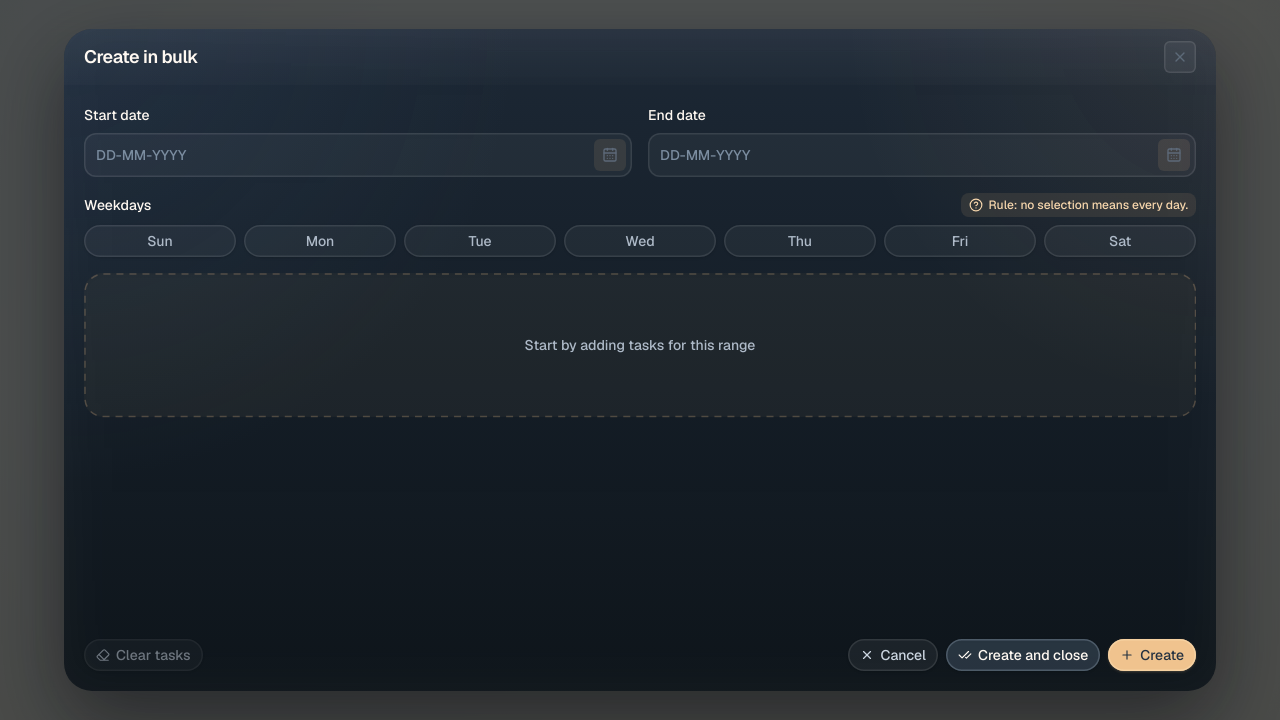
Test: BulkCalendarEditor › clears only the drafted tasks
Click the button "Start by adding tasks for this range".
click(640, 345)  # box [84,273,1196,417]
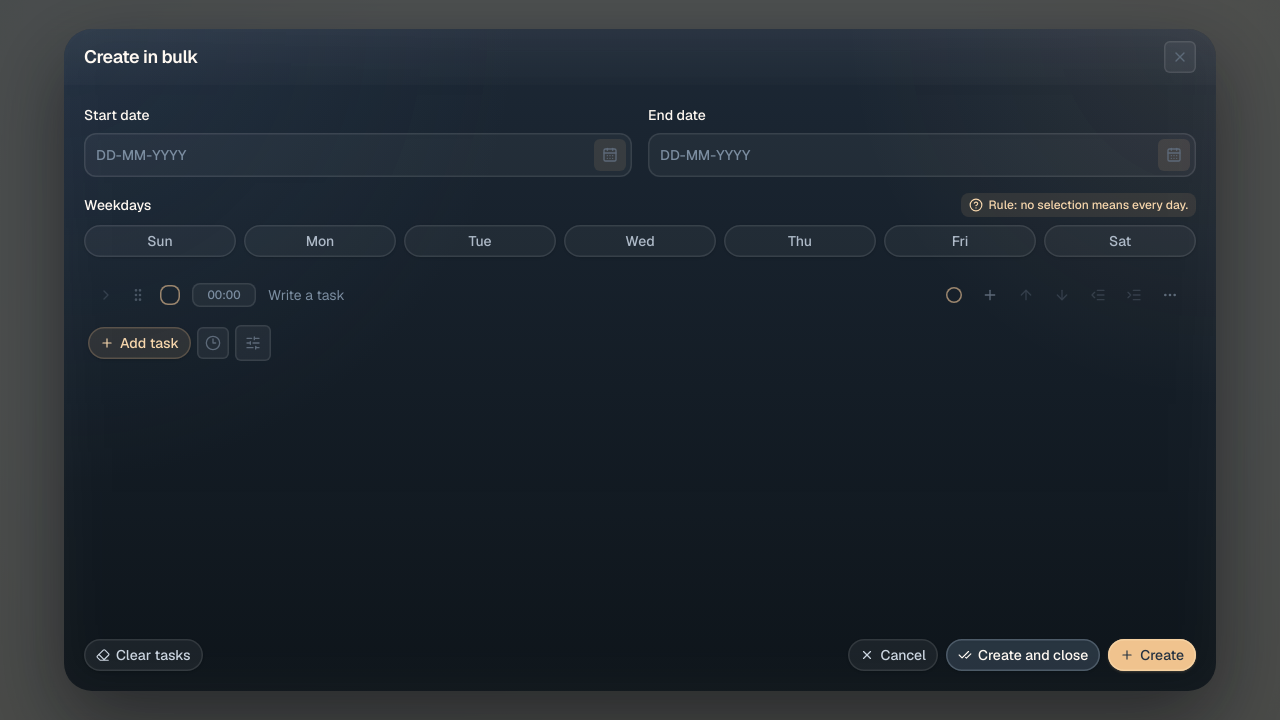
Type "Temporary task" into the text box with placeholder "Write a task".
click(596, 295); type("Temporary task")  # box [260,285,932,305]
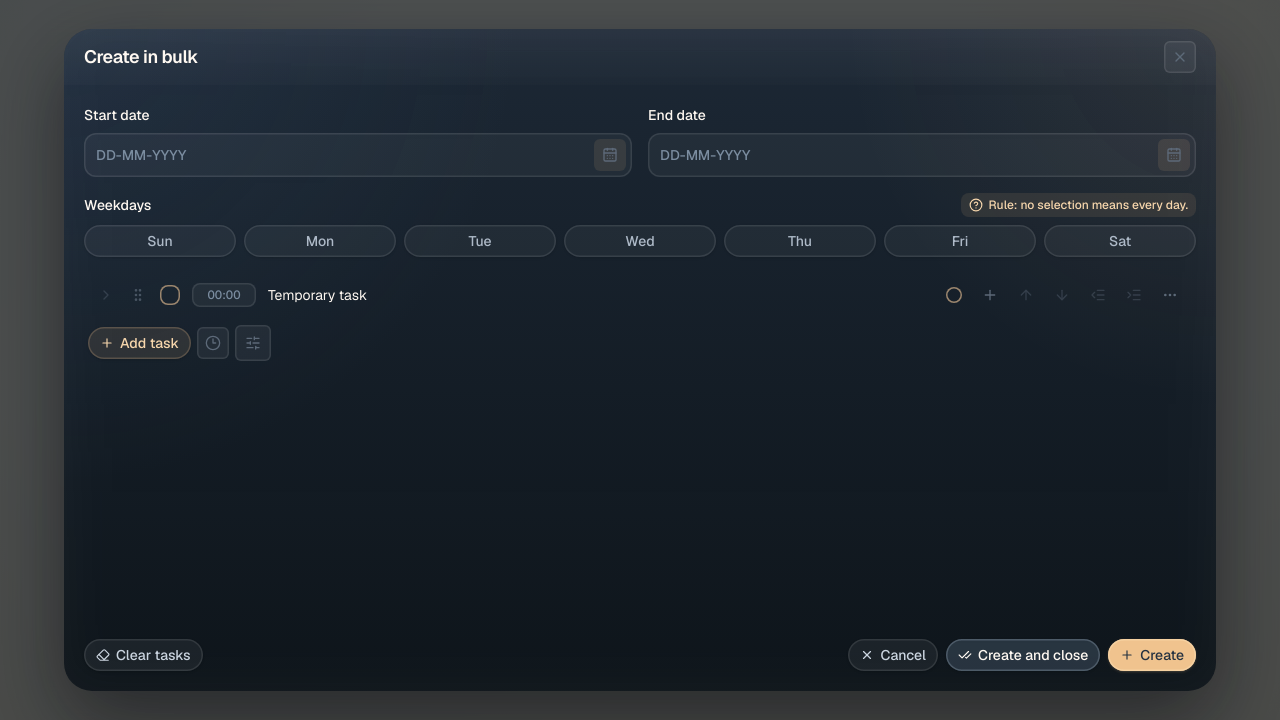
Type "01012026" into the field named "Start date".
click(358, 155); type("01012026")  # box [84,133,632,177]
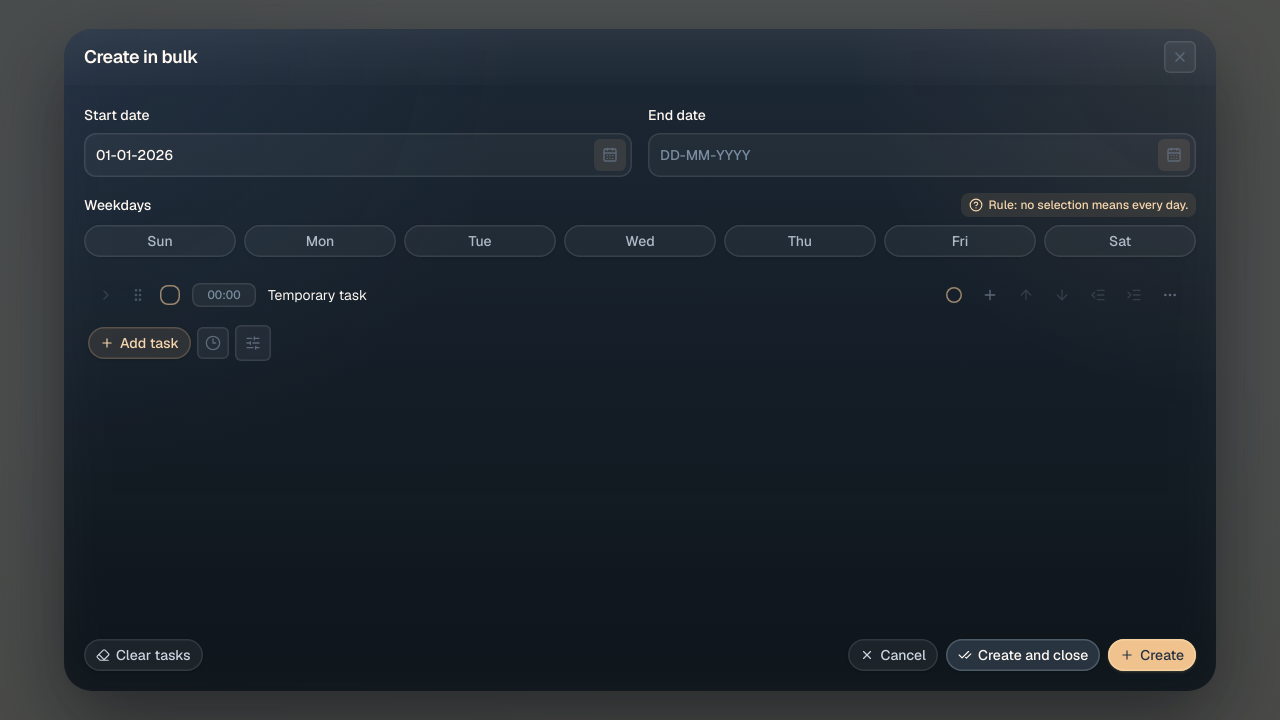
Type "10012026" into the field named "End date".
click(922, 155); type("10012026")  # box [648,133,1196,177]
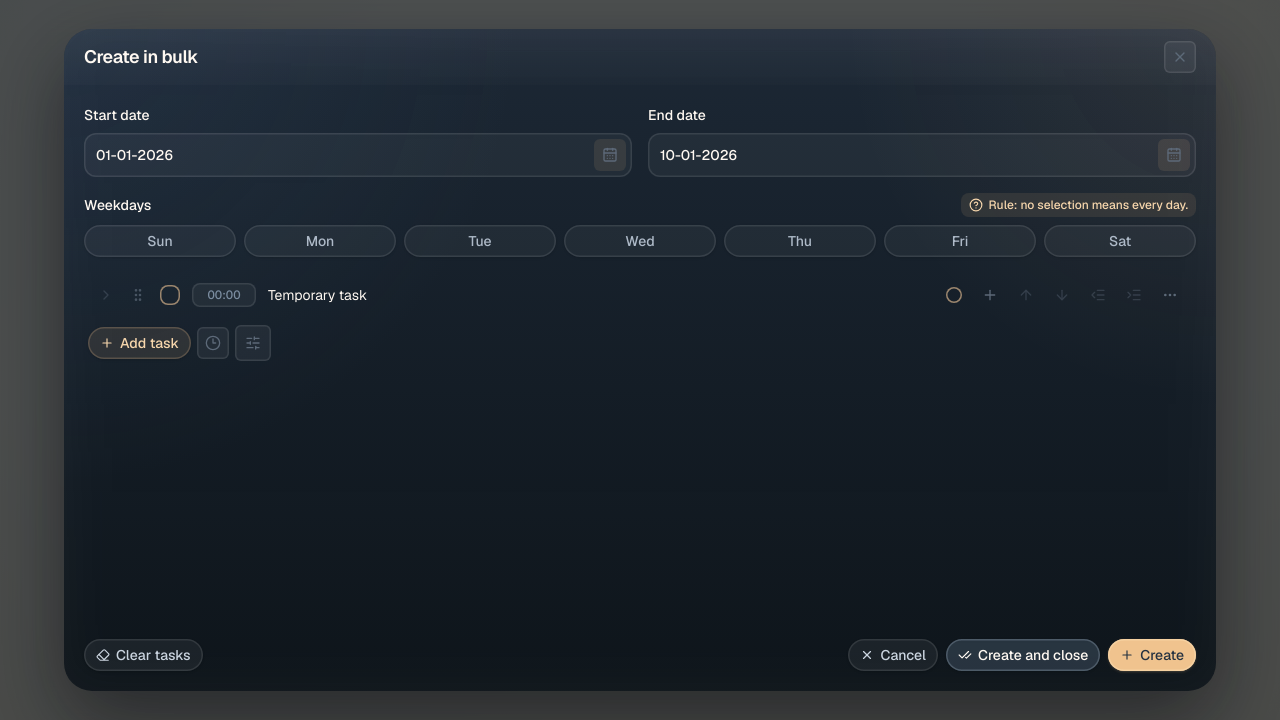
Click the button "Mon".
click(320, 241)  # box [244,225,396,257]
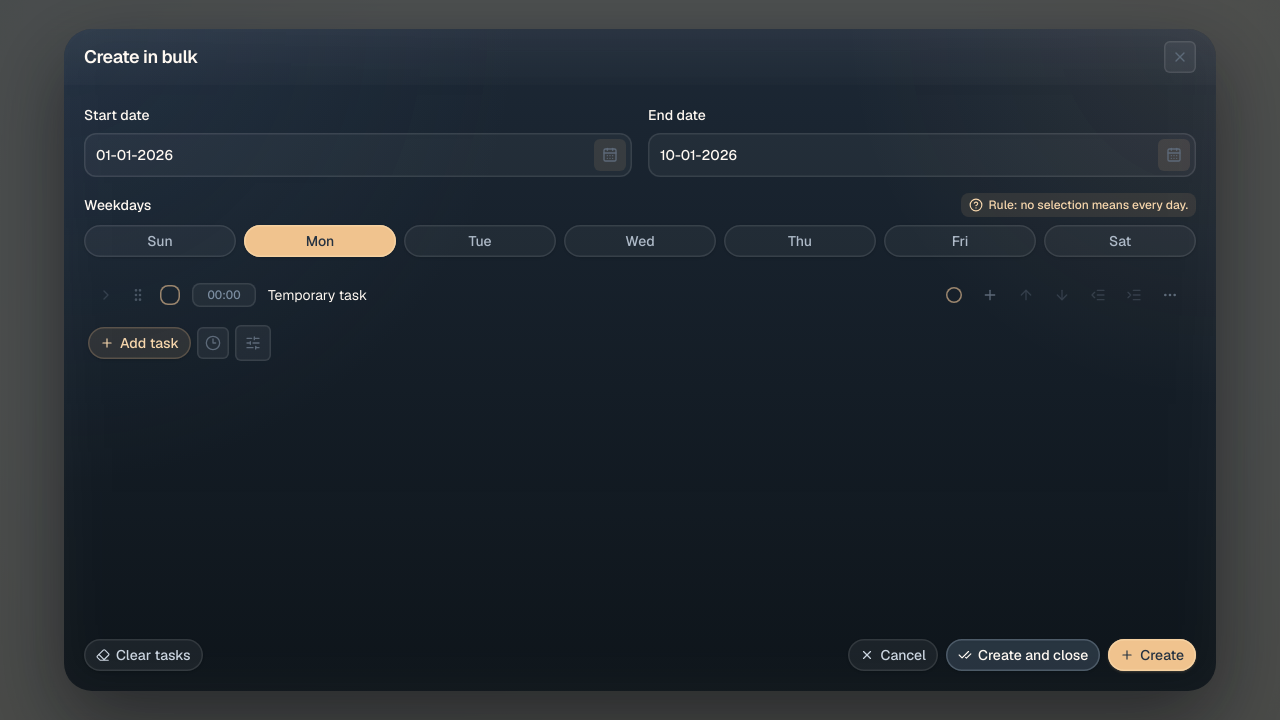
Click the button "Clear tasks".
click(143, 655)  # box [84,639,203,671]
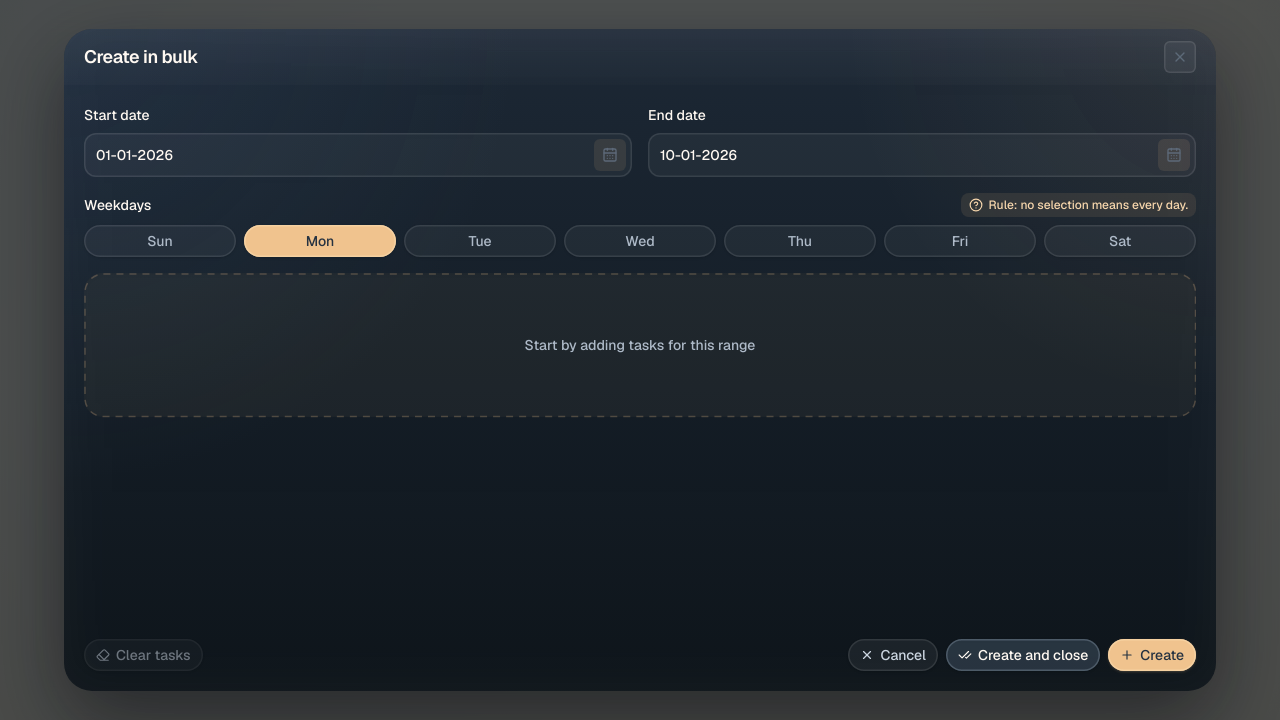
Expected: the field named "Start date" holds "01-01-2026", [84,133,632,177]
Expected: the field named "End date" holds "10-01-2026", [648,133,1196,177]
Expected: the button "Start by adding tasks for this range" is shown, [84,273,1196,417]
